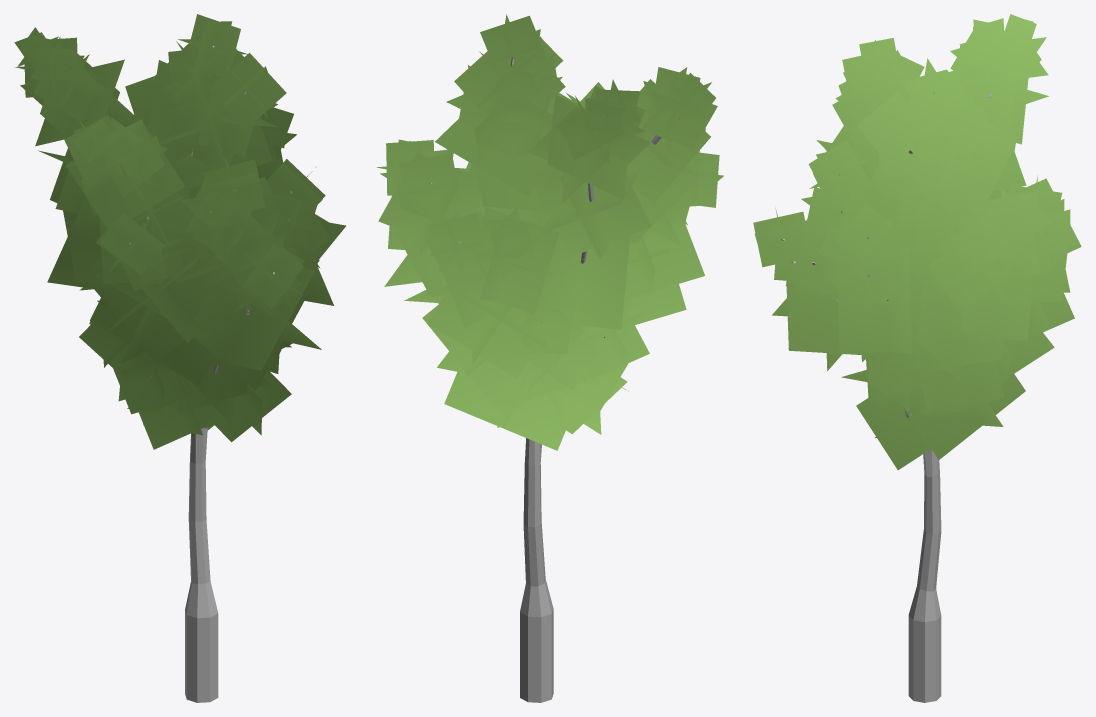
Rendered from BirchTree.fbx.
The picture shows the model from 3 angles, left to right: view 1: azimuth 30°, elevation 25°; view 2: azimuth 150°, elevation 25°; view 3: azimuth 270°, elevation 25°; orthographic projection. The views are drawn at different scales.
Visible parts, largest first — view 1: BirchLeaves, BirchTrunk; view 2: BirchLeaves, BirchTrunk; view 3: BirchLeaves, BirchTrunk.
Boxes of the visible parts, bbox=[...] form: BirchLeaves: bbox=[14, 14, 345, 449]; BirchTrunk: bbox=[94, 140, 292, 702]; BirchLeaves: bbox=[376, 14, 723, 450]; BirchTrunk: bbox=[459, 87, 693, 702]; BirchLeaves: bbox=[753, 14, 1081, 470]; BirchTrunk: bbox=[781, 165, 1047, 702].
Bounding box in the file's own units: 548 × 1272 × 591.
